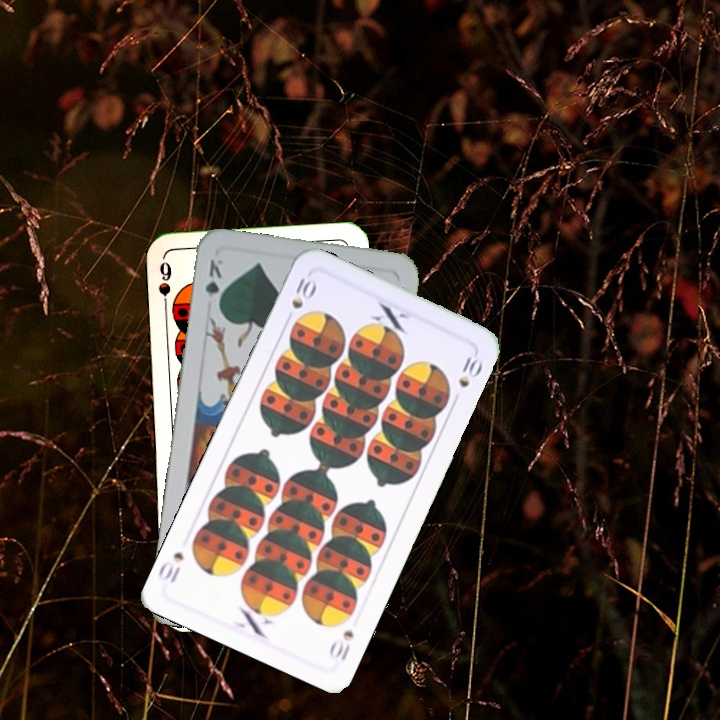GK: (201, 255, 227, 312)
S10: (281, 271, 319, 326), (325, 626, 357, 664)
S9: (154, 258, 175, 316)
